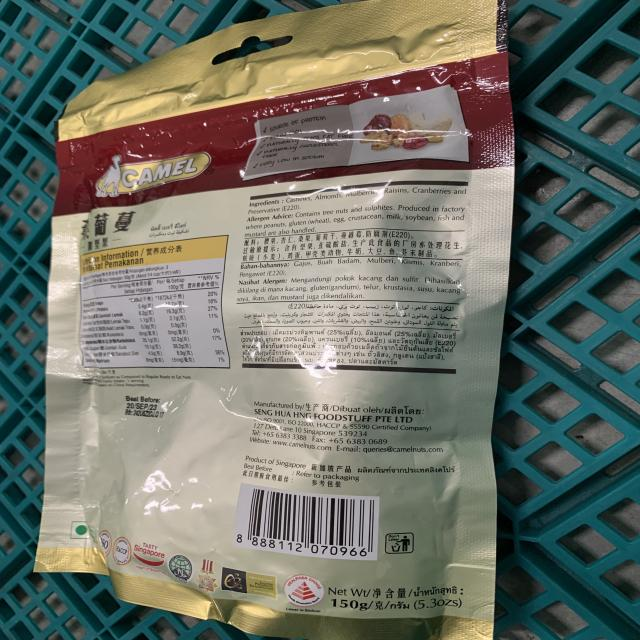object_name: (63, 21, 485, 635)
